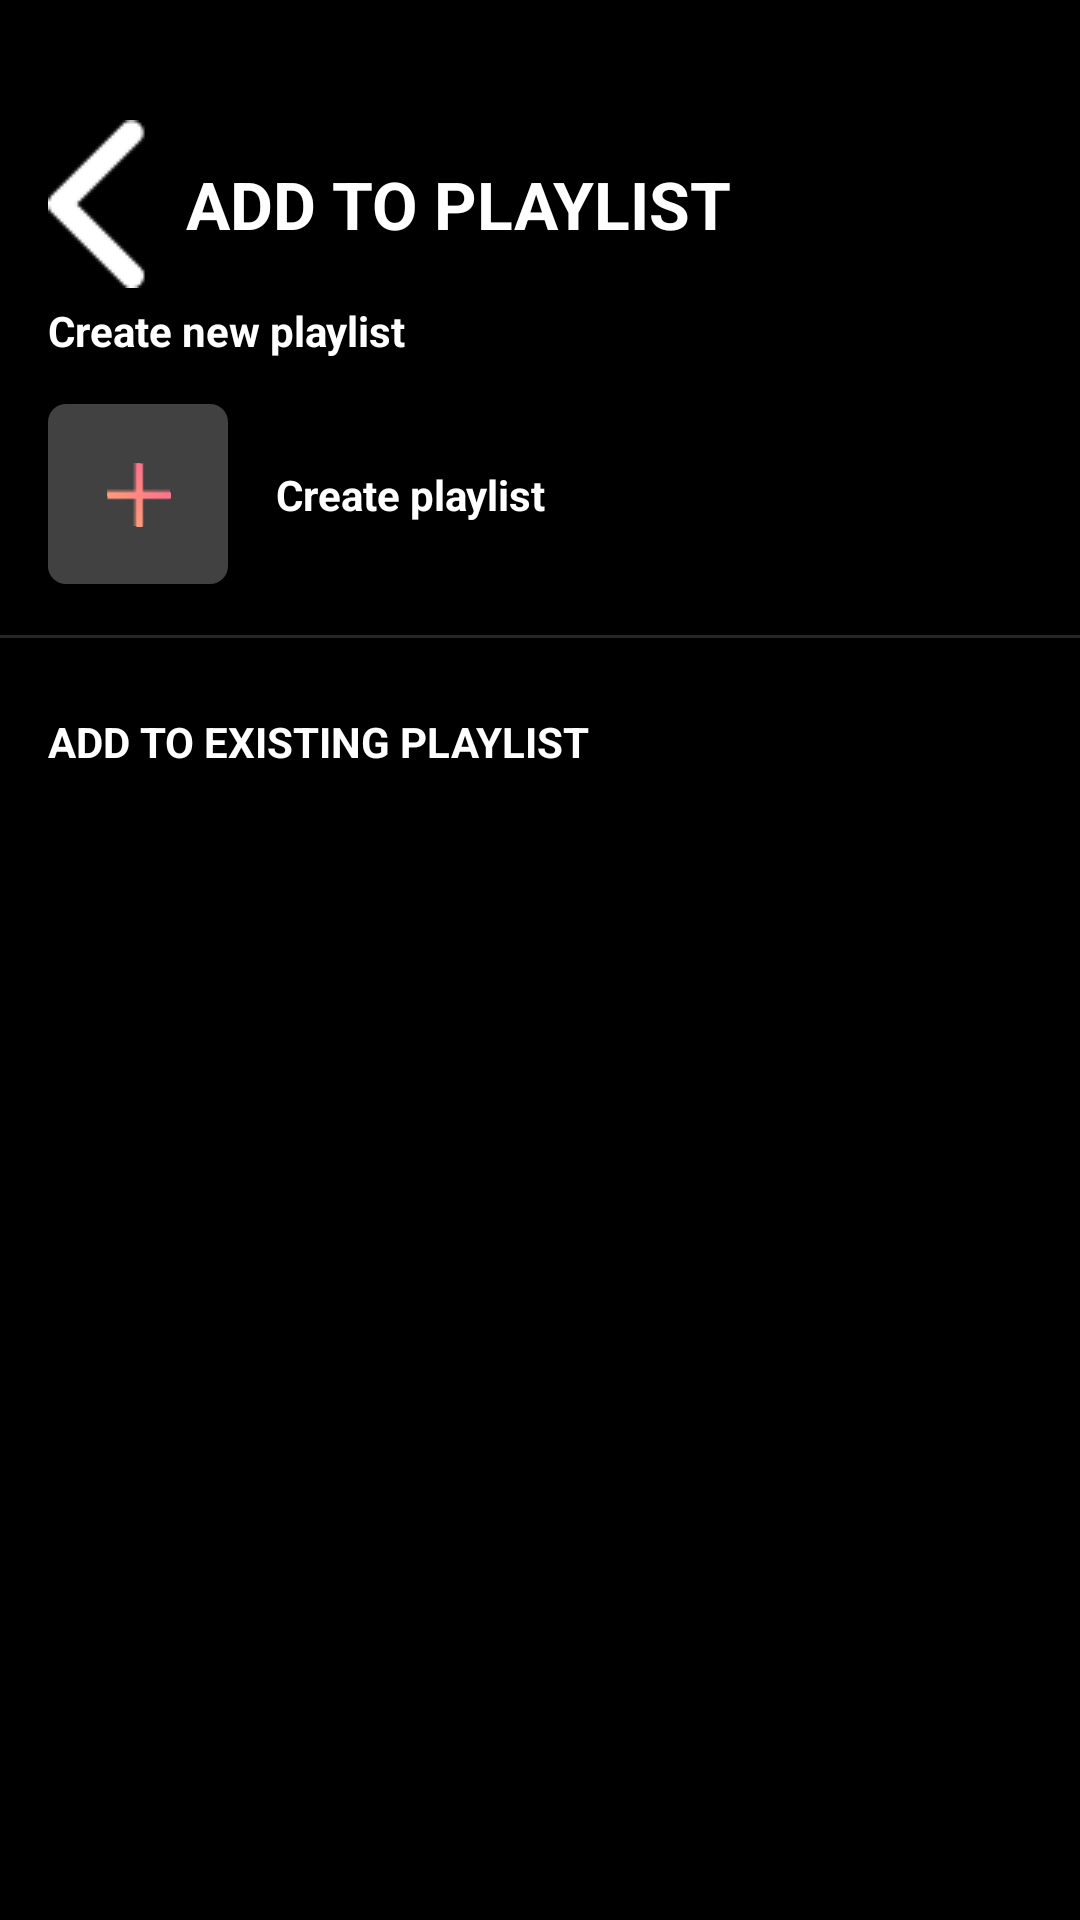

Screen size 1080 × 1920. Icon name, then its box in pixels as (x1, y1, x2, y2):
back: (48, 120, 145, 288)
plus: (107, 463, 170, 526)
